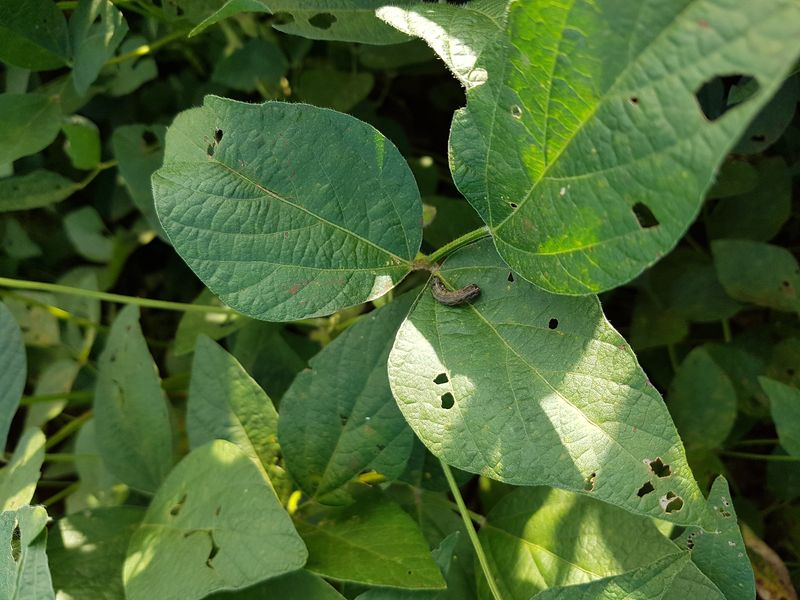Spodoptera_albula: (419, 264, 491, 317)
